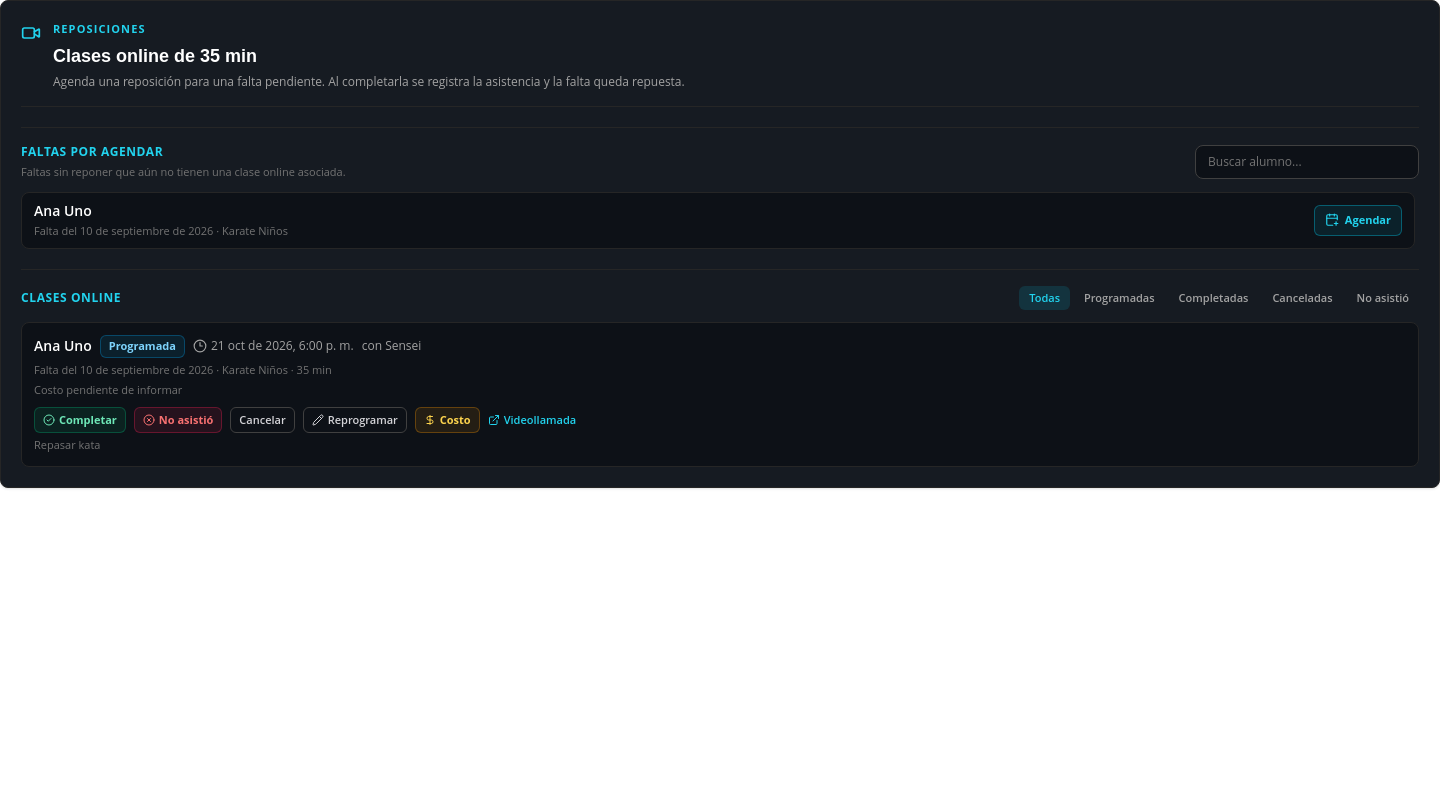
it: reposiciones online › el admin puede abrir el formulario desde una falta pendiente
The width and height of the screenshot is (1440, 803).
Check: the text "Ana Uno" below "Faltas por agendar" is shown, box x1=34 y1=201 x2=92 y2=220
Check: the button "Programadas" is shown, box x1=1074 y1=286 x2=1165 y2=310
Click the button "Agendar" at {"x": 1358, "y": 220}, box x1=1314 y1=205 x2=1402 y2=236
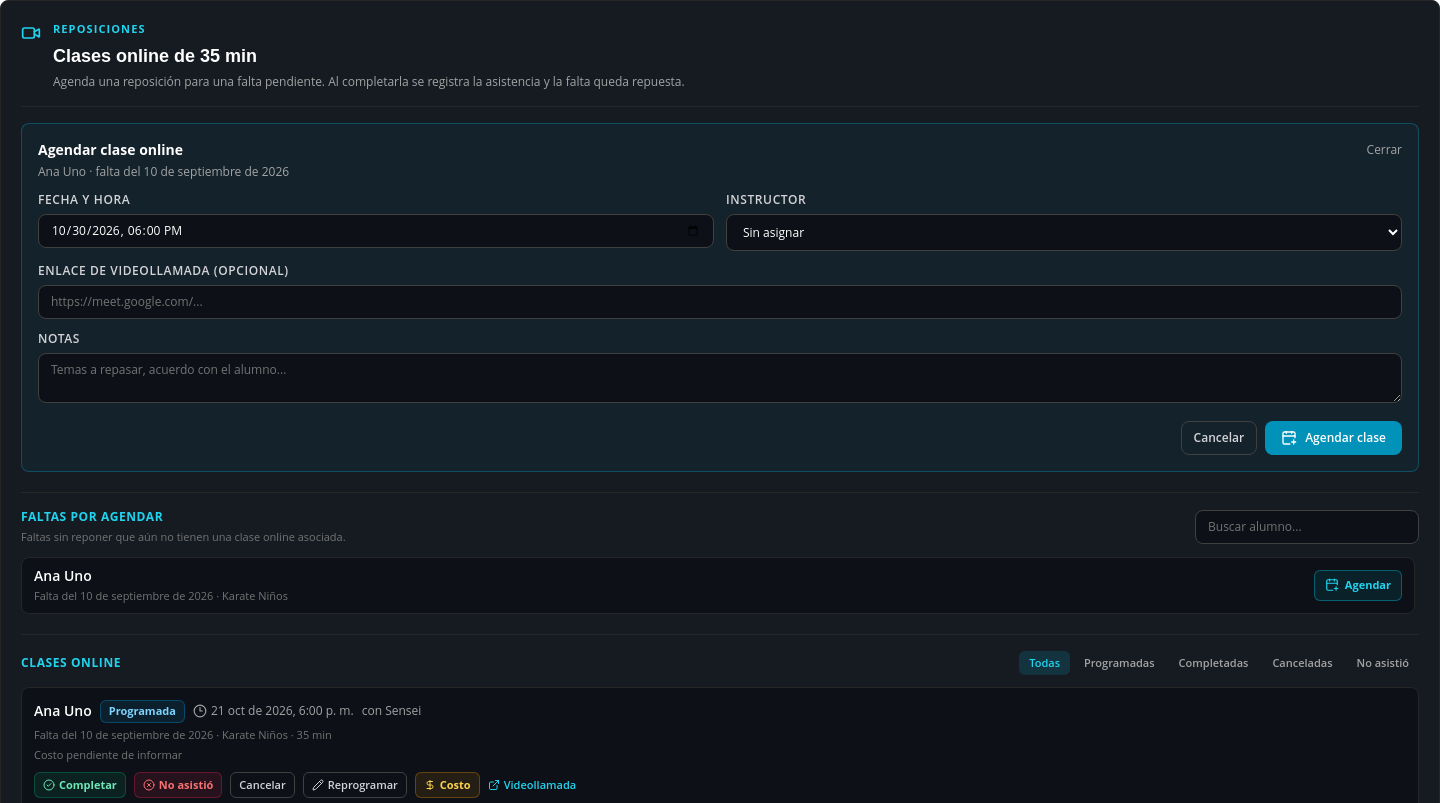
Check: the text "Agendar clase online" is shown, box x1=38 y1=140 x2=183 y2=160
Check: the field labelled "Fecha y hora" is shown, box x1=38 y1=214 x2=714 y2=248
Check: the dropdown labelled "Instructor" is shown, box x1=726 y1=214 x2=1402 y2=250
